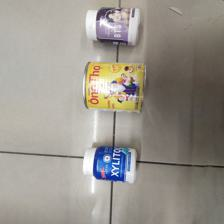Ong_tho: (82, 60, 149, 115)
Xylitol_BTS: (83, 6, 145, 50)
Xylitol_blue: (78, 145, 140, 185)
